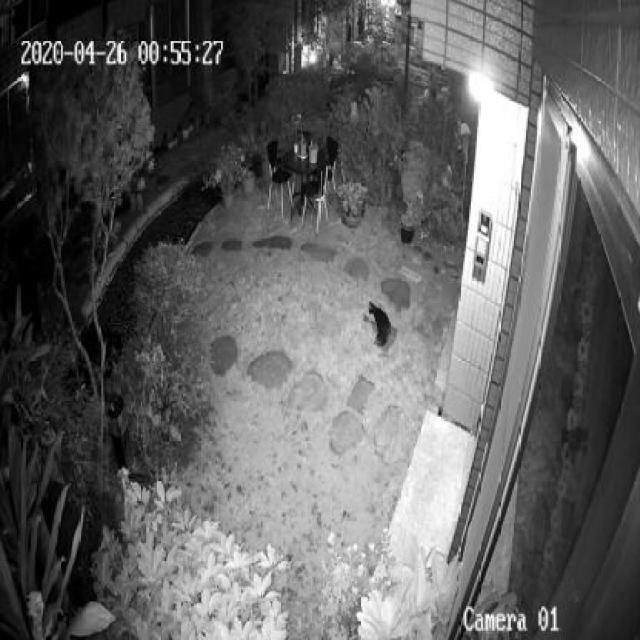animals: (363, 299, 395, 352)
